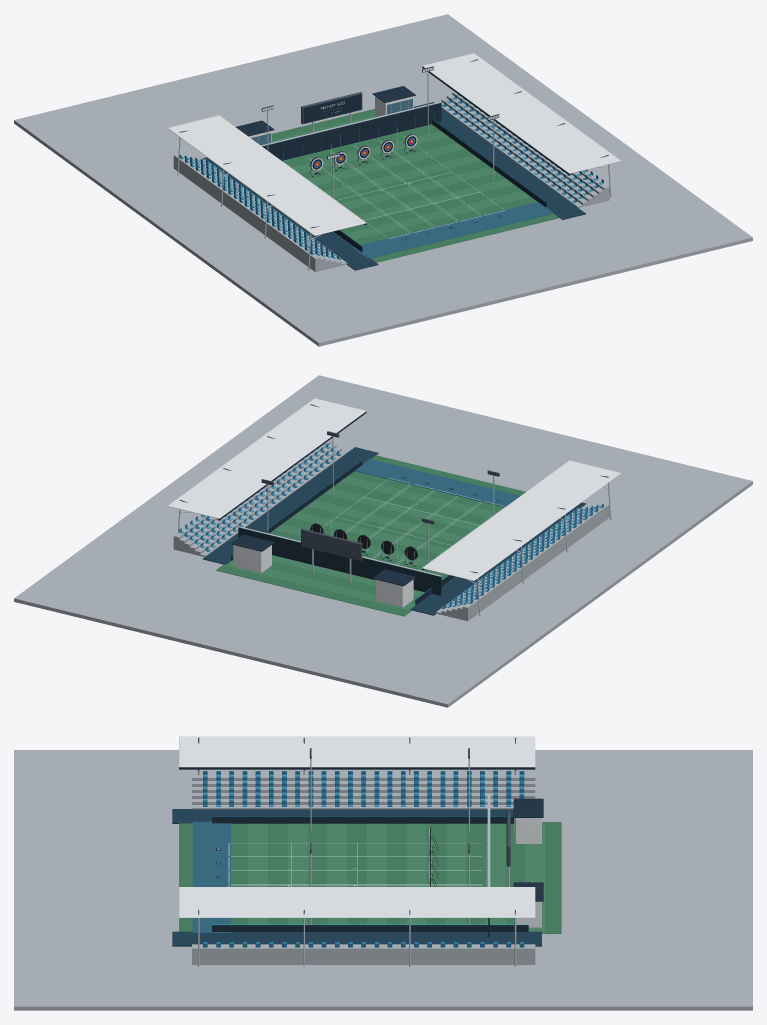
File: modern-arena.glb
3 views of the same model, one above another, from view 1: azimuth 30°, elevation 25°; view 2: azimuth 150°, elevation 25°; view 3: azimuth 270°, elevation 25° (orthographic). The views are drawn at different scales.
Parts seen in each view (by area): view 1: Arena foundation, Field, Floating canopy, Floating canopy.001, Backstop wall, Blue shooting apron, Perimeter walkway.001, Grandstand concrete step.005, Mown turf stripe.007, Perimeter walkway, Mown turf stripe.003, Mown turf stripe.004 (+9 smaller); view 2: Arena foundation, Field, Floating canopy, Floating canopy.001, Backstop wall, Perimeter walkway.001, Grandstand concrete step.005, Blue shooting apron, Perimeter walkway, Mown turf stripe.005, Mown turf stripe.006, Mown turf stripe.007 (+12 smaller); view 3: Arena foundation, Field, Floating canopy, Floating canopy.001, Grandstand concrete step.011, Perimeter walkway.001, Blue shooting apron, Perimeter walkway, Courtside advertising, Courtside advertising.001, Mown turf stripe.005, Mown turf stripe.003 (+15 smaller).
Boxes of the visible parts, <box> form: Arena foundation: <box>14,14,752,346</box>; Field: <box>272,109,559,262</box>; Floating canopy: <box>167,115,365,235</box>; Floating canopy.001: <box>422,53,620,173</box>; Backstop wall: <box>262,103,441,160</box>; Blue shooting apron: <box>352,202,553,258</box>; Perimeter walkway.001: <box>413,102,585,219</box>; Grandstand concrete step.005: <box>173,154,320,272</box>; Mown turf stripe.007: <box>346,191,530,239</box>; Perimeter walkway: <box>202,157,378,270</box>; Mown turf stripe.003: <box>308,143,464,185</box>; Mown turf stripe.004: <box>324,155,481,197</box>; Arena foundation: <box>14,375,752,707</box>; Field: <box>215,455,525,616</box>; Floating canopy: <box>422,460,620,580</box>; Floating canopy.001: <box>168,398,365,518</box>; Backstop wall: <box>238,527,441,595</box>; Perimeter walkway.001: <box>203,447,378,564</box>; Grandstand concrete step.005: <box>462,503,609,621</box>; Blue shooting apron: <box>355,458,520,507</box>; Perimeter walkway: <box>410,502,586,615</box>; Mown turf stripe.005: <box>307,500,464,542</box>; Mown turf stripe.006: <box>323,488,480,530</box>; Mown turf stripe.007: <box>340,476,496,518</box>; Arena foundation: <box>14,750,752,1010</box>; Field: <box>179,822,561,933</box>; Floating canopy: <box>179,736,535,767</box>; Floating canopy.001: <box>179,887,535,917</box>; Grandstand concrete step.011: <box>192,945,535,964</box>; Perimeter walkway.001: <box>172,931,541,946</box>; Blue shooting apron: <box>192,821,230,932</box>; Perimeter walkway: <box>172,809,513,823</box>; Courtside advertising: <box>212,816,514,823</box>; Courtside advertising.001: <box>212,925,528,931</box>; Mown turf stripe.005: <box>327,823,347,924</box>; Mown turf stripe.003: <box>406,823,426,924</box>.
Bounding box in the file's own units: 92 × 13.98 × 112.
